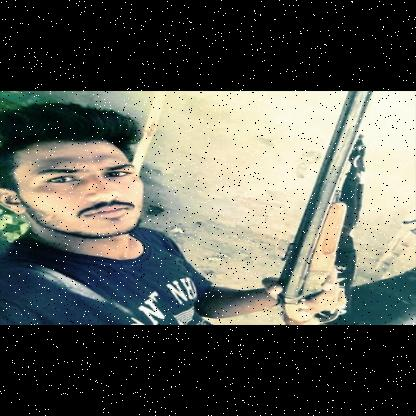rifle: (268, 91, 373, 325)
